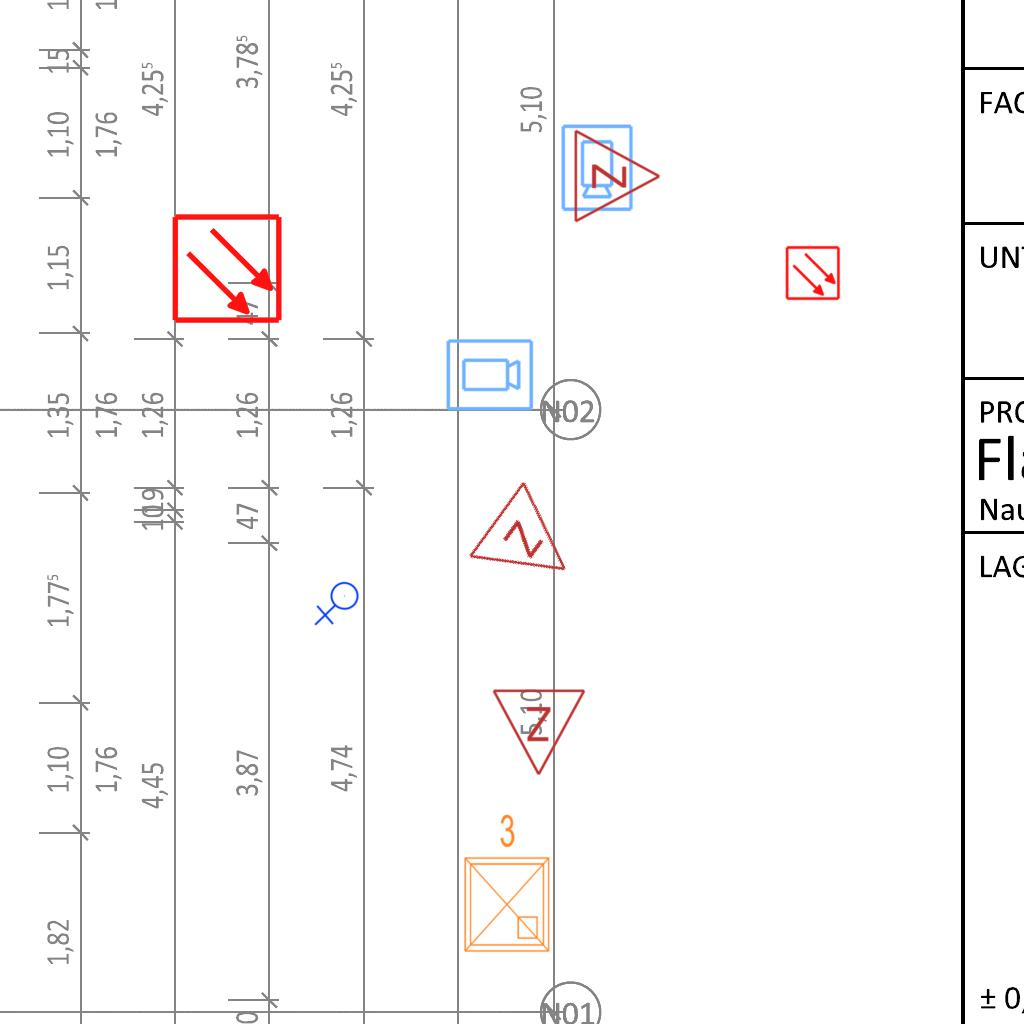Einbaudownlights_LED_Konferenzraeume: (453, 809, 557, 959)
Elektroanschluss_allgemein_230V_Geraeteanschlussdose_230V: (313, 580, 364, 629)
KFO_Kamera_mit_Festobjektiv: (444, 337, 535, 414), (558, 122, 635, 213)
RMO_Rauchmelder_optischer: (171, 212, 284, 325), (785, 245, 841, 301)
Zimmersignalleuchte: (461, 473, 601, 613), (491, 682, 589, 782), (567, 126, 667, 224)
